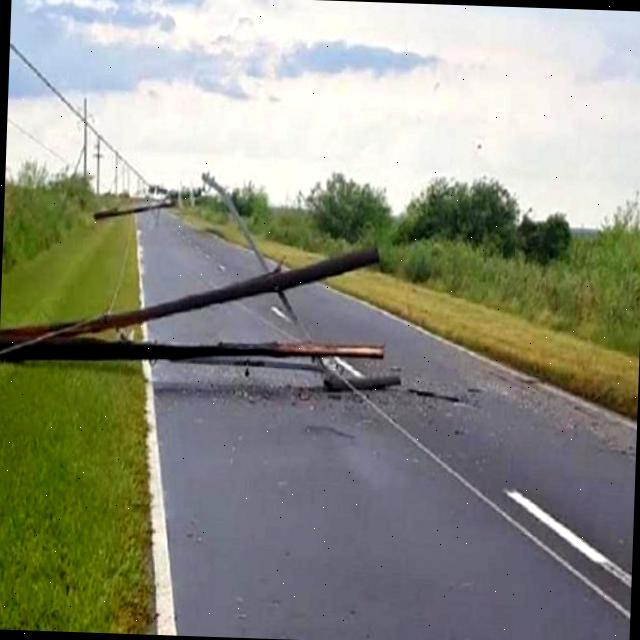Broken Pole: (1, 173, 399, 399)
